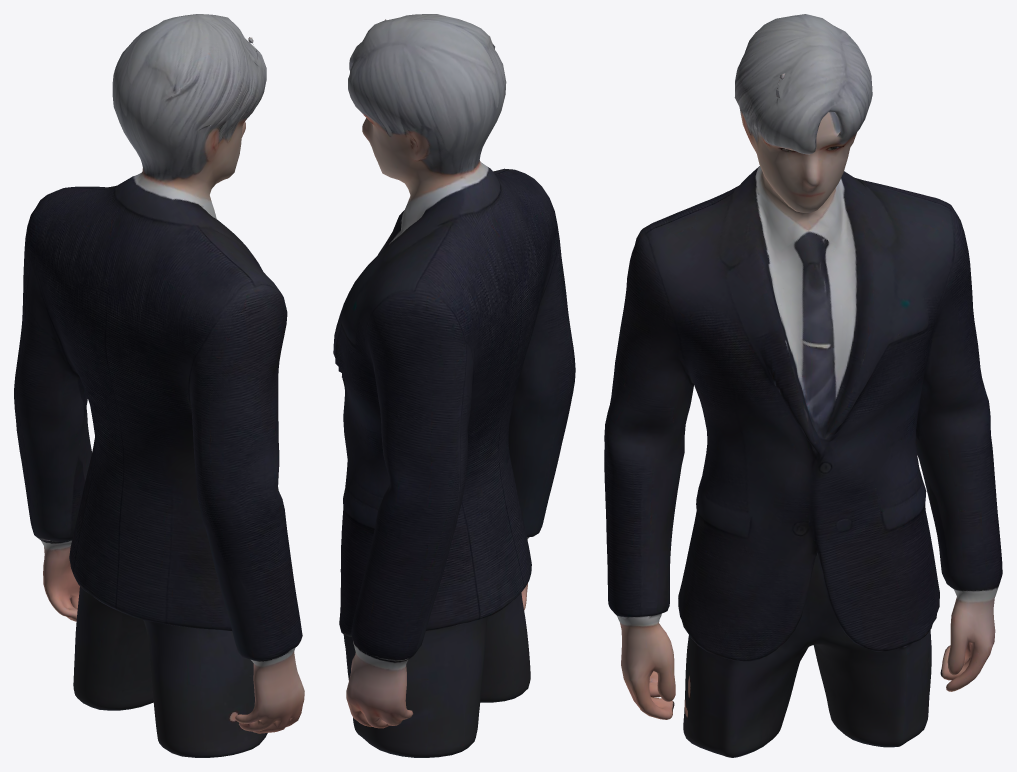
Rendered from suspect_2.glb.
The picture shows the model from 3 angles, left to right: view 1: azimuth 30°, elevation 25°; view 2: azimuth 150°, elevation 25°; view 3: azimuth 270°, elevation 25°; orthographic projection. The views are drawn at different scales.
Visible parts, largest first — view 1: tripo_node_98aed119-4eb8-4087-8a5d-1be04b0eb452; view 2: tripo_node_98aed119-4eb8-4087-8a5d-1be04b0eb452; view 3: tripo_node_98aed119-4eb8-4087-8a5d-1be04b0eb452.
Boxes of the visible parts, box(x1,y1,x2,y2) form: tripo_node_98aed119-4eb8-4087-8a5d-1be04b0eb452: box(14, 14, 304, 757); tripo_node_98aed119-4eb8-4087-8a5d-1be04b0eb452: box(333, 14, 575, 757); tripo_node_98aed119-4eb8-4087-8a5d-1be04b0eb452: box(604, 14, 1002, 757).
Bounding box in the file's own units: 0.2788 × 0.9984 × 0.5057.
Materials: 1 (1 with a texture image).
